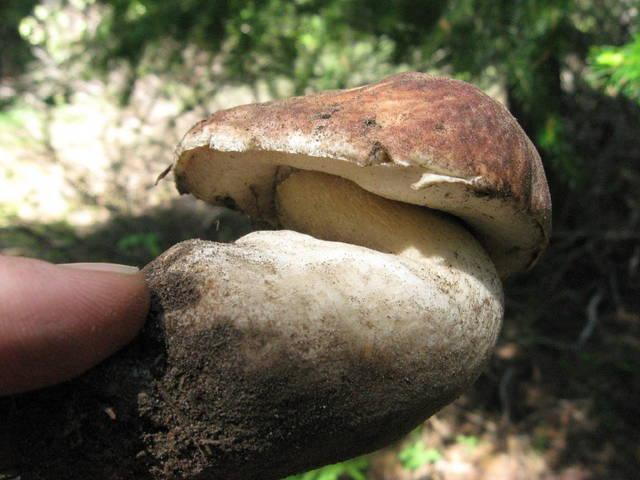edible_mushroom: (150, 67, 554, 452)
